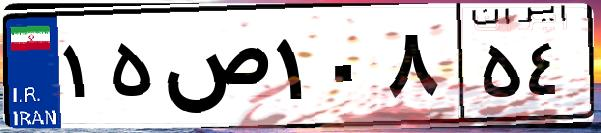0: (330, 28, 385, 110)
1: (270, 28, 330, 110), (57, 26, 110, 100)
4: (525, 38, 570, 115)
5: (475, 38, 525, 113), (110, 28, 158, 98)
8: (385, 28, 445, 110)
ص: (158, 20, 270, 120)
